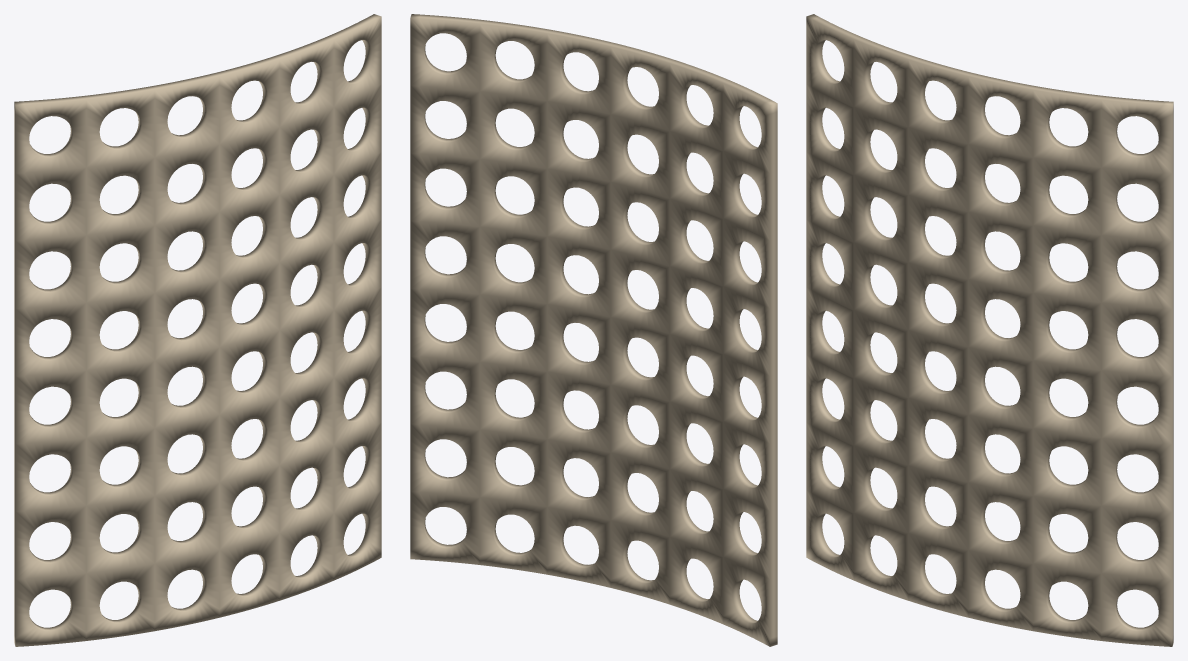
The picture shows the model from 3 angles, left to right: view 1: azimuth 30°, elevation 25°; view 2: azimuth 150°, elevation 25°; view 3: azimuth 330°, elevation 25°; orthographic projection.
Parts seen in each view (by area): view 1: VEIL | continuous perforated shell; view 2: VEIL | continuous perforated shell; view 3: VEIL | continuous perforated shell.
Boxes of the visible parts, x1,y1,x2,y2 form: VEIL | continuous perforated shell: (14, 14, 381, 646); VEIL | continuous perforated shell: (410, 14, 777, 646); VEIL | continuous perforated shell: (806, 14, 1173, 646).
Bounding box in the file's own units: 0.3539 × 0.5 × 0.0426.
